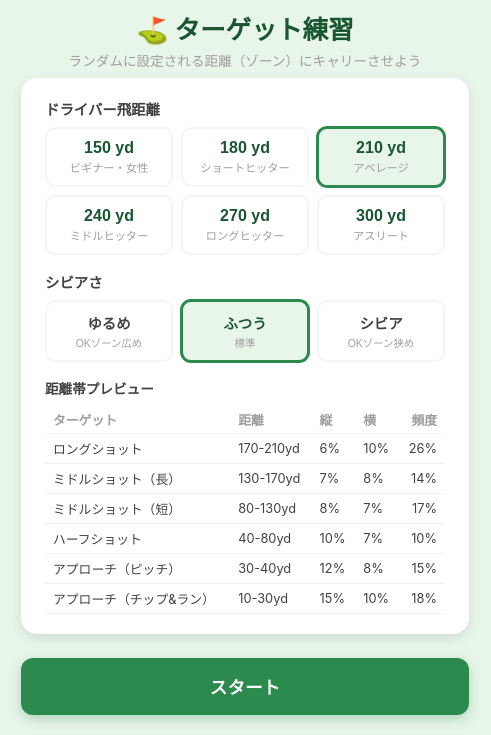
Test: App › ターゲット表示後に成功/失敗/スキップボタンが表示される
Click the button with test id "next-button": x=245, y=686 top-left (21, 658), bottom-right (469, 715)
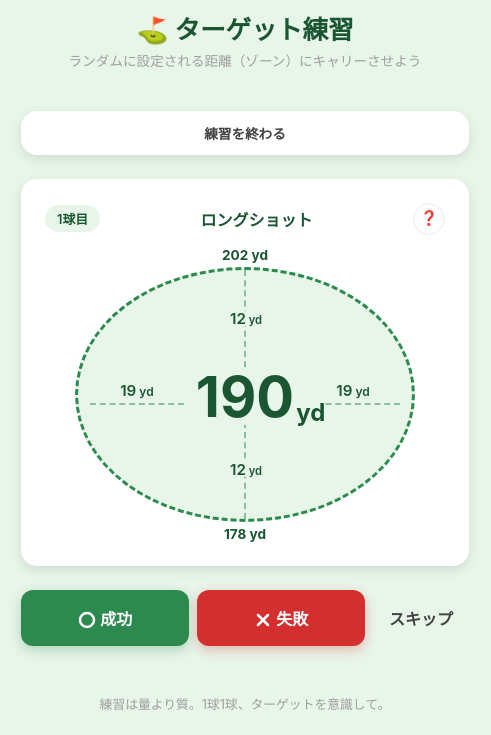
Now the button with test id "ok-button" is shown, box top-left (21, 590), bottom-right (189, 646)
Now the button with test id "ng-button" is shown, box top-left (197, 590), bottom-right (365, 646)
Now the button with test id "skip-button" is shown, box top-left (373, 590), bottom-right (469, 646)
